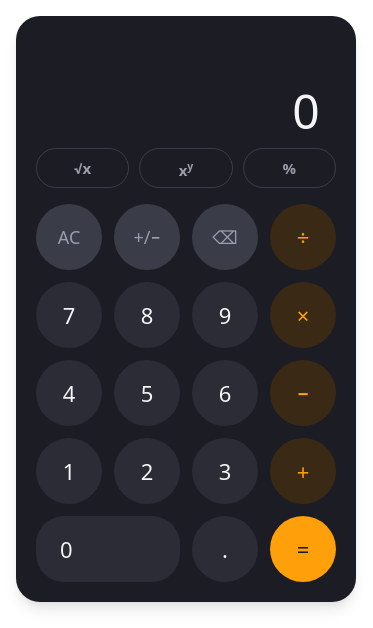
Test case: Calculator › performs an addition and displays the result from the API
The width and height of the screenshot is (373, 628).
Click the button "2": (147, 471) [114,438,180,504]
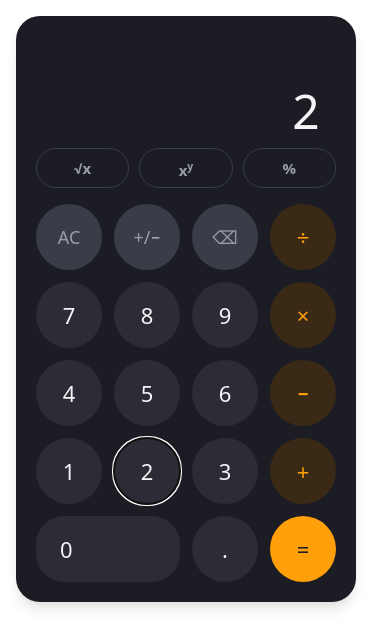
Click the button "+": (303, 471) [270,438,336,504]
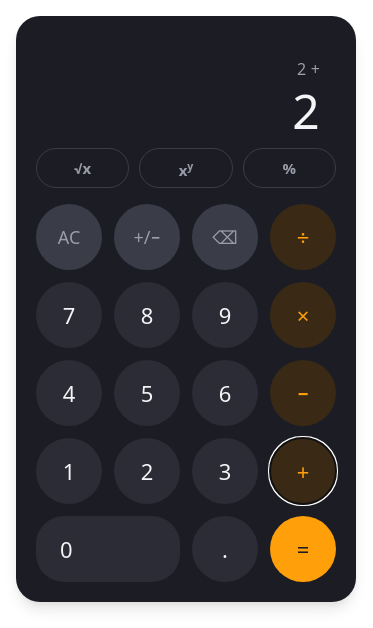
Click the button "3": (225, 471) [192,438,258,504]
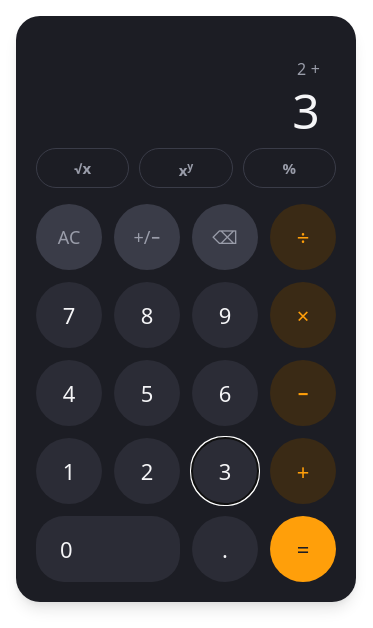
Click the button "=": (303, 549) [270,516,336,582]
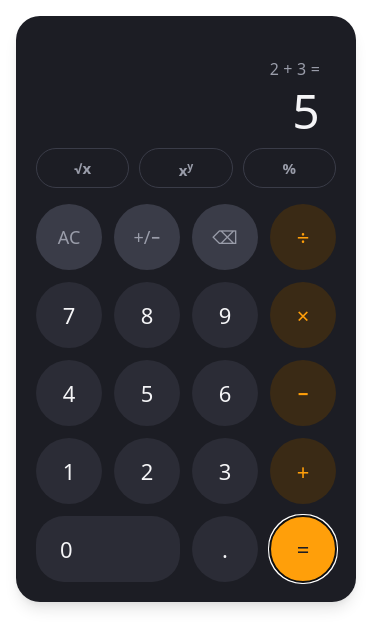
Expected: the text with test id "display" reads "5", [292,78,320,143]
